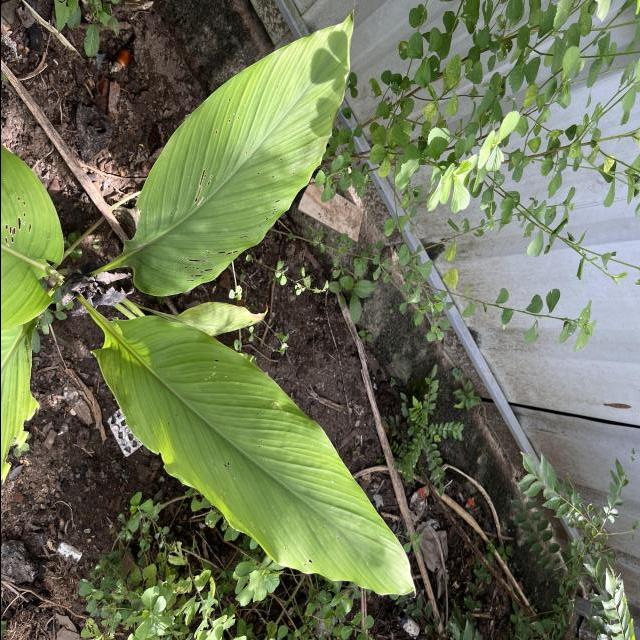Curcuma longa: (91, 310, 421, 601), (118, 0, 358, 300)
